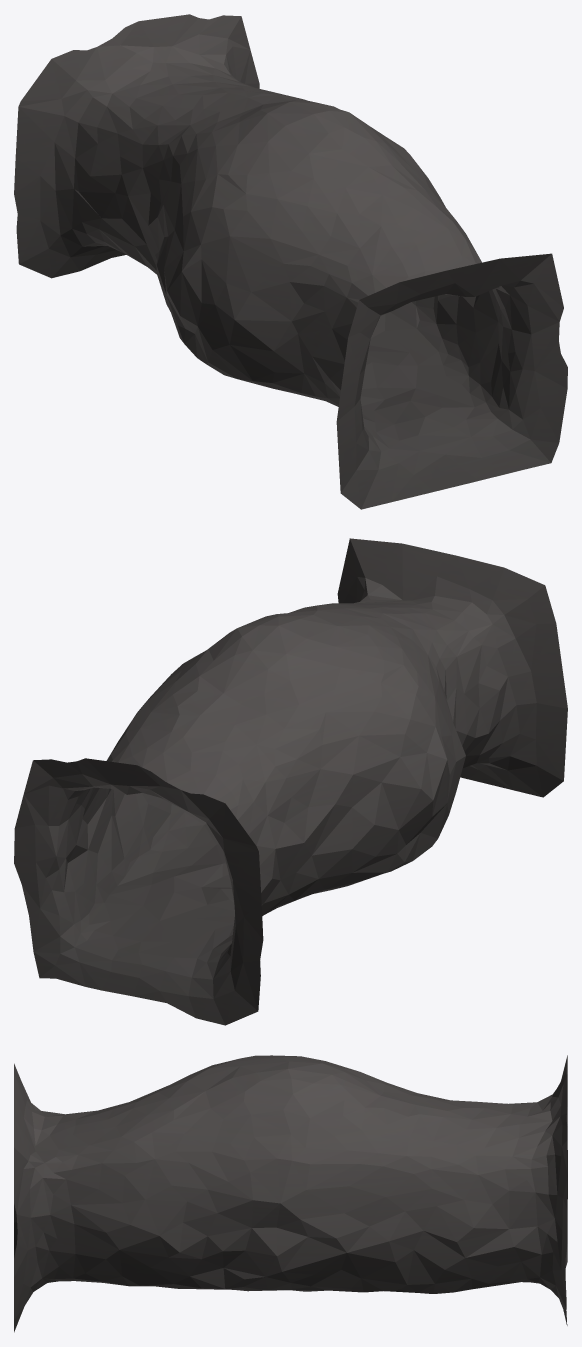
File: ZLP_Cave_A_3.FBX
3 views of the same model, one above another, from view 1: azimuth 30°, elevation 25°; view 2: azimuth 150°, elevation 25°; view 3: azimuth 270°, elevation 25° (orthographic). The views are drawn at different scales.
Visible parts, largest first — view 1: ZLP_Cave_A_3; view 2: ZLP_Cave_A_3; view 3: ZLP_Cave_A_3.
Part boxes in pixels (left/top/right/bottom): ZLP_Cave_A_3: left=14, top=14, right=567, bottom=509; ZLP_Cave_A_3: left=14, top=538, right=567, bottom=1025; ZLP_Cave_A_3: left=14, top=1055, right=567, bottom=1332.
Size of the model in its own units: 1779 by 1638 by 3610.
